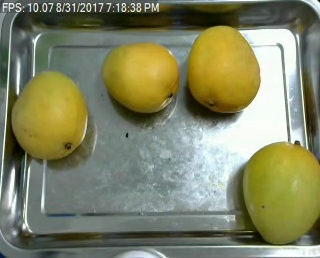Mango: (244, 142, 320, 245), (12, 70, 88, 159), (186, 24, 261, 112), (103, 41, 179, 112)
